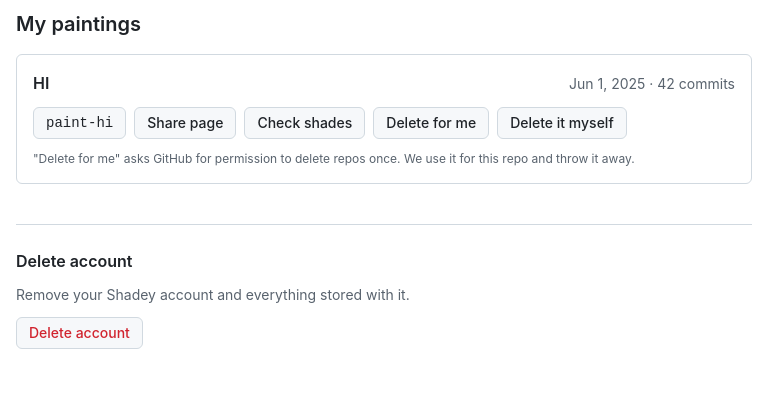
Test: MyPaintingsPage › checks shades and reports a top-up
Click the button "Check shades" at (305, 123), box top-left (244, 107), bottom-right (365, 139)
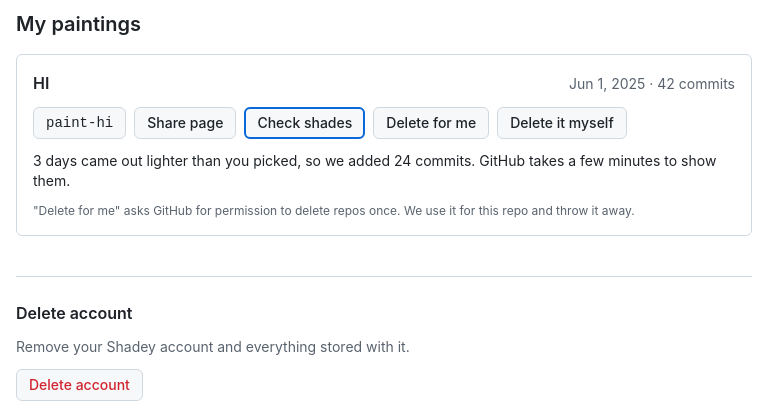
Check: the message shows "3 days came out lighter than you picked, so we added 24 commits.", box top-left (33, 152), bottom-right (716, 189)
